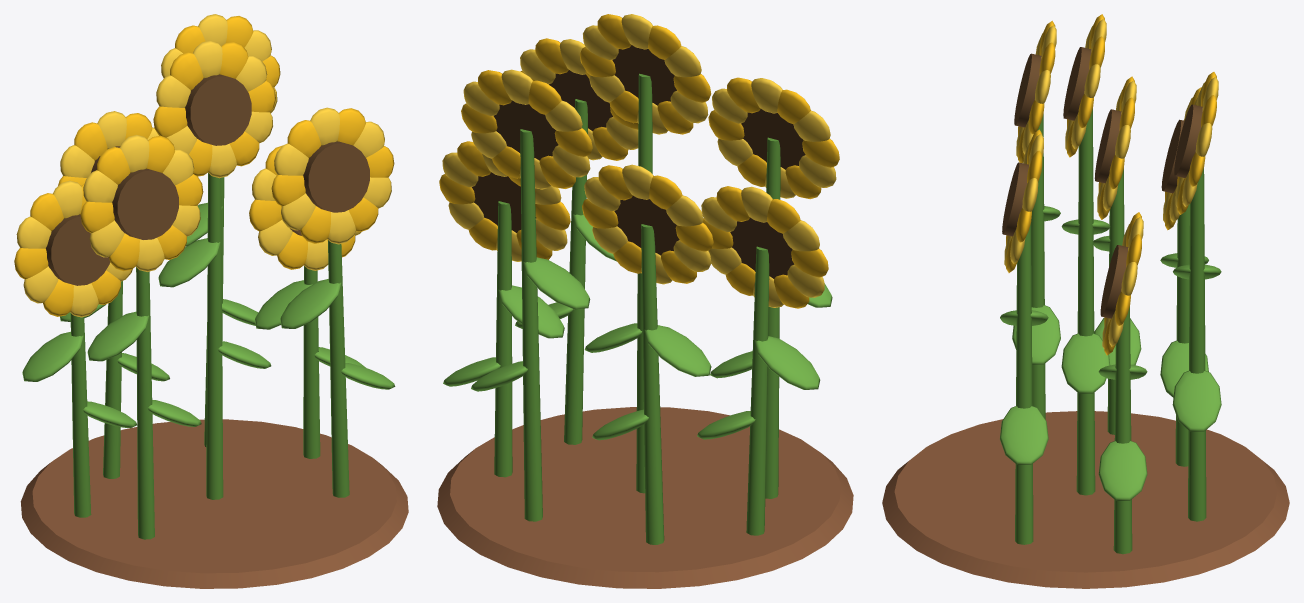
The model's file is sunflowers.glb.
3 renders of one model, left to right at view 1: azimuth 30°, elevation 25°; view 2: azimuth 150°, elevation 25°; view 3: azimuth 270°, elevation 25°, orthographic. The views are drawn at different scales.
Size of the model in its own units: 1.41 by 1.72 by 1.32.
